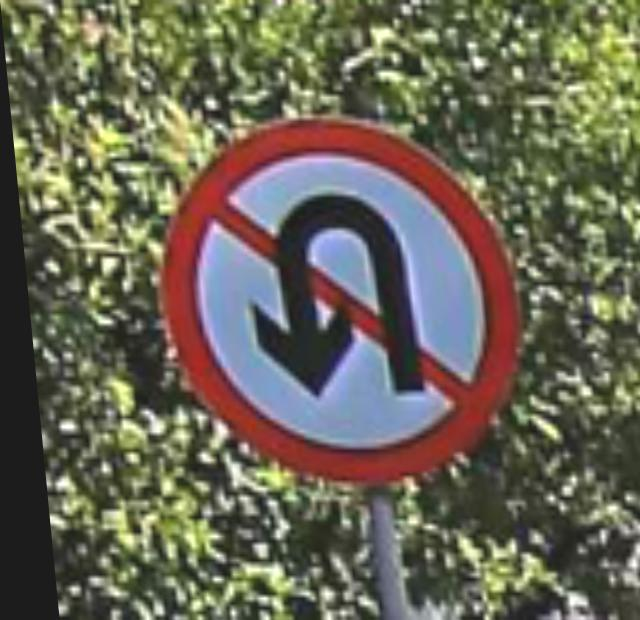not_u_turn_left: (130, 118, 510, 462)
